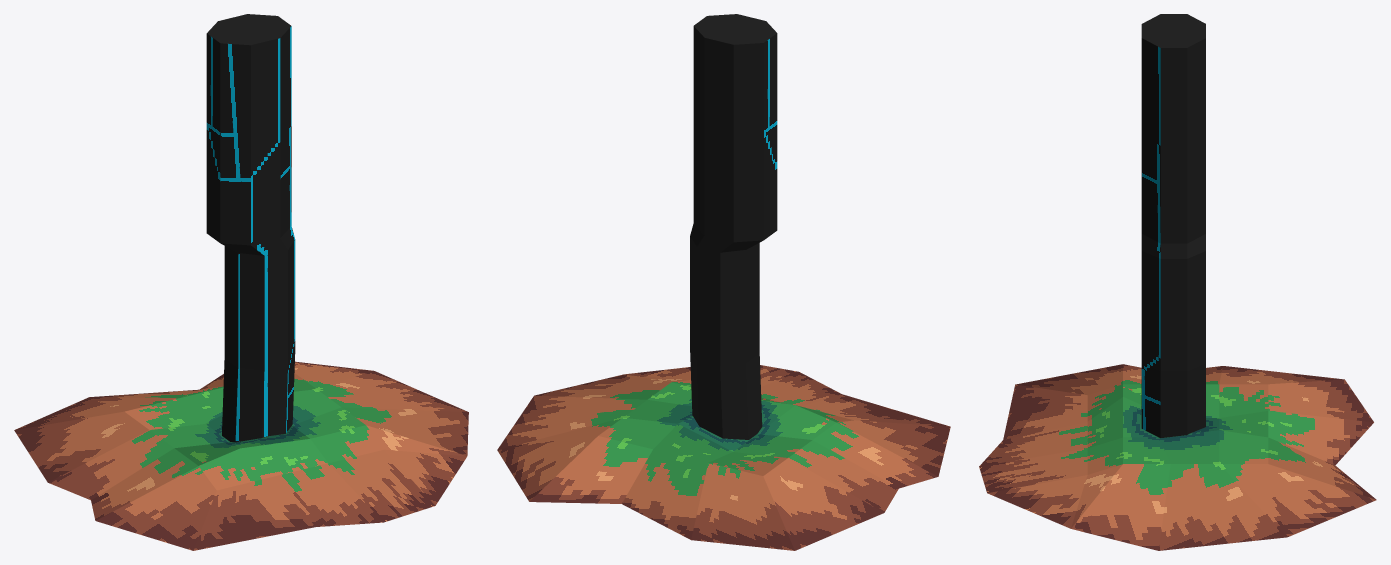
Rendered from Tower.gltf.
3 views of the same model, side by side, from view 1: azimuth 30°, elevation 25°; view 2: azimuth 150°, elevation 25°; view 3: azimuth 270°, elevation 25° (orthographic). The views are drawn at different scales.
Parts seen in each view (by area): view 1: Island, Tower; view 2: Island, Tower; view 3: Island, Tower.
Part boxes in pixels (<box>): Island: <box>14,361,468,550</box>; Tower: <box>206,14,295,442</box>; Island: <box>497,365,950,550</box>; Tower: <box>690,14,777,439</box>; Island: <box>979,364,1376,550</box>; Tower: <box>1141,14,1205,438</box>.
Bounding box in the file's own units: 6.88 × 7.19 × 6.19.
1 material, 1 textured.
